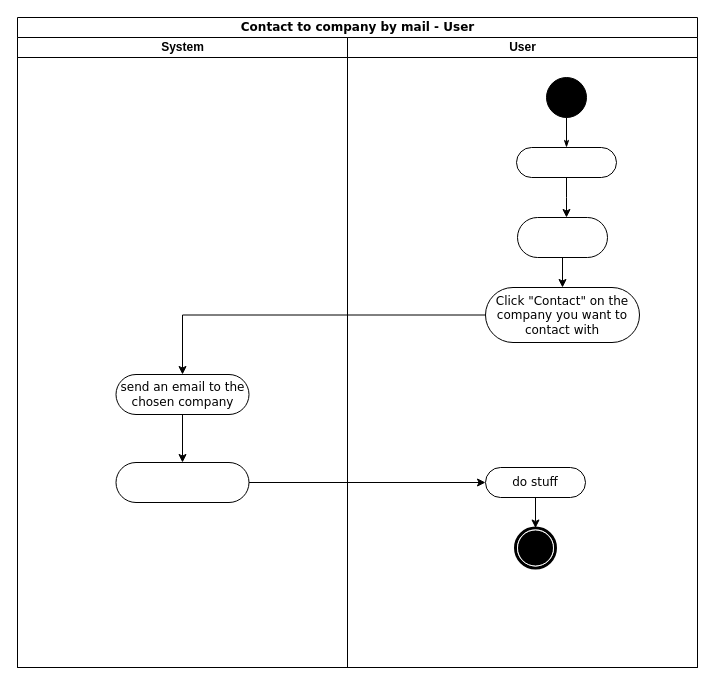
This 715x685 diagram has some shape labels left out. The shapes that lost their labels are listed below. From the top down, each one's centre as x and y in pixels, then its label:
the point at 566,162: Click "User Menu"
the point at 562,237: Click "Show Companies"
the point at 182,482: show appropriate message
